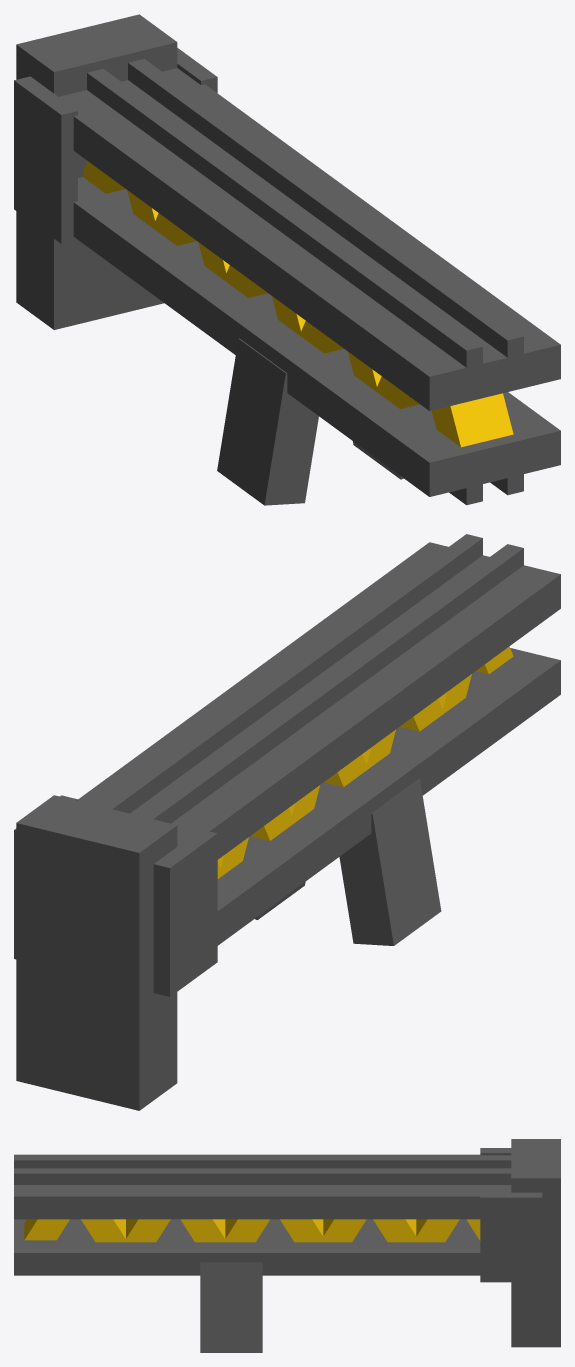
Rendered from MassProRailgun.fbx.
The picture shows the model from 3 angles, top to bottom: view 1: azimuth 30°, elevation 25°; view 2: azimuth 150°, elevation 25°; view 3: azimuth 270°, elevation 25°; orthographic projection. The views are drawn at different scales.
Visible parts, largest first — view 1: Cube.013, Cube.003; view 2: Cube.013, Cube.003; view 3: Cube.013, Cube.003.
Boxes of the visible parts, x1=… form: Cube.013: x1=14, y1=14, x2=560, y2=505; Cube.003: x1=83, y1=161, x2=513, y2=447; Cube.013: x1=14, y1=534, x2=560, y2=1110; Cube.003: x1=217, y1=646, x2=513, y2=878; Cube.013: x1=14, y1=1139, x2=560, y2=1352; Cube.003: x1=24, y1=1219, x2=480, y2=1242.
Size of the model in its own units: 43.06 by 60.64 by 176.
